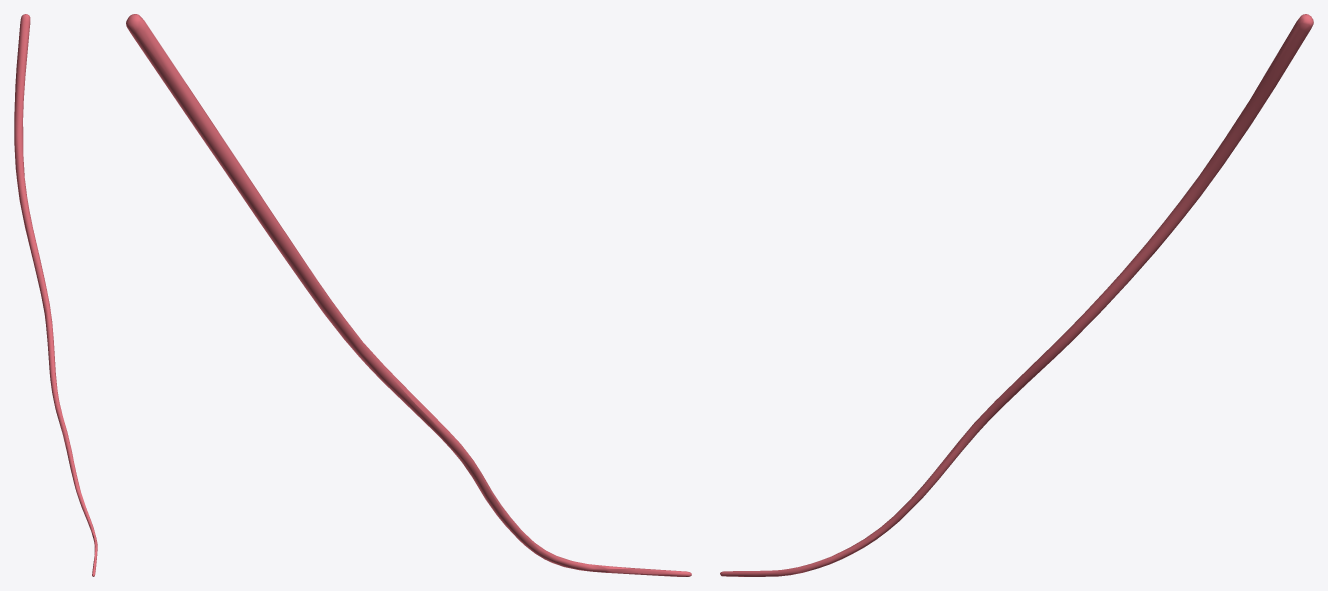
Rendered from fma85098_fj2357.glb.
The picture shows the model from 3 angles, left to right: view 1: azimuth 30°, elevation 25°; view 2: azimuth 150°, elevation 25°; view 3: azimuth 270°, elevation 25°; orthographic projection. The views are drawn at different scales.
Visible parts, largest first — view 1: FMA85098_FJ2357; view 2: FMA85098_FJ2357; view 3: FMA85098_FJ2357.
Boxes of the visible parts, box(x1,y1,x2,y2) form: FMA85098_FJ2357: box(14, 14, 97, 576); FMA85098_FJ2357: box(126, 14, 691, 576); FMA85098_FJ2357: box(720, 14, 1313, 576).
Size of the model in its own units: 0.0199 by 0.0647 by 0.0535.
